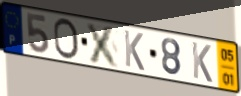5: (25, 11, 51, 55)
8: (160, 37, 184, 77)
K: (190, 40, 214, 85), (122, 28, 146, 73)
O: (52, 16, 81, 61)
X: (85, 21, 122, 70)
